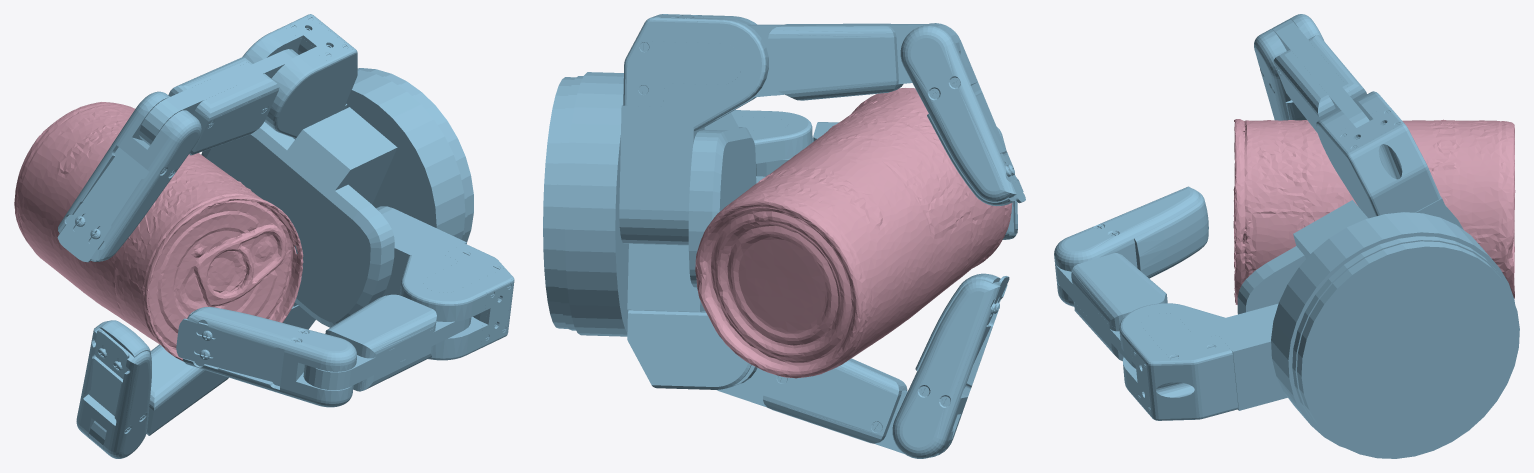
The picture shows the model from 3 angles, left to right: view 1: azimuth 30°, elevation 25°; view 2: azimuth 150°, elevation 25°; view 3: azimuth 270°, elevation 25°; orthographic projection. The views are drawn at different scales.
Visible parts, largest first — view 1: world; view 2: world; view 3: world.
Part boxes in pixels (left/top/right/bottom): world: left=14, top=14, right=514, bottom=458; world: left=543, top=14, right=1025, bottom=458; world: left=1054, top=14, right=1519, bottom=458.
Size of the model in its own units: 0.1747 by 0.1529 by 0.1685.
